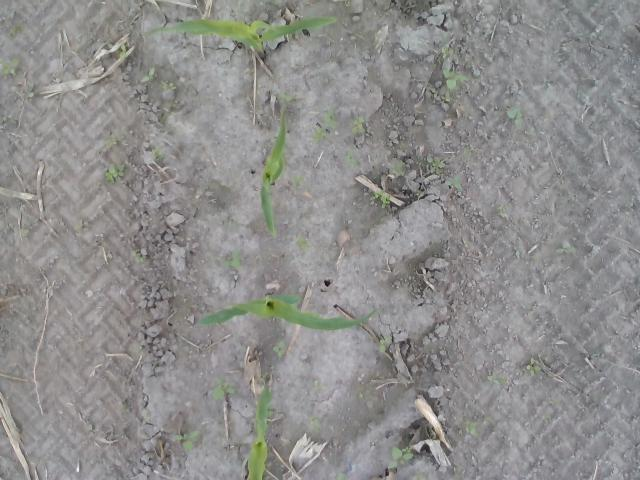Maize: (142, 14, 336, 60), (198, 293, 379, 334), (259, 106, 288, 240), (246, 382, 274, 480)
Weeds: (442, 65, 468, 102), (212, 372, 236, 400), (386, 446, 414, 470), (174, 430, 204, 452), (104, 160, 128, 184), (504, 106, 526, 128), (426, 156, 448, 176), (222, 246, 240, 269), (0, 56, 20, 76), (277, 92, 296, 112), (342, 150, 362, 169), (370, 190, 390, 208), (389, 157, 407, 177), (270, 335, 288, 354), (310, 127, 328, 145), (526, 356, 542, 376), (464, 418, 480, 437), (323, 109, 338, 129), (352, 116, 368, 134), (447, 176, 465, 192), (295, 235, 313, 251), (486, 371, 506, 385), (378, 335, 392, 354), (559, 241, 577, 255), (159, 80, 177, 93), (104, 134, 120, 148), (142, 64, 156, 80), (309, 416, 321, 434), (495, 203, 512, 214), (291, 174, 305, 186), (132, 249, 144, 263), (312, 380, 328, 390), (440, 48, 454, 58), (8, 24, 22, 34), (412, 472, 426, 480), (463, 146, 474, 156), (19, 228, 29, 238), (132, 343, 142, 353), (152, 147, 162, 157), (336, 472, 348, 480), (120, 46, 128, 57), (261, 371, 269, 379), (416, 191, 424, 198), (542, 416, 550, 423)
